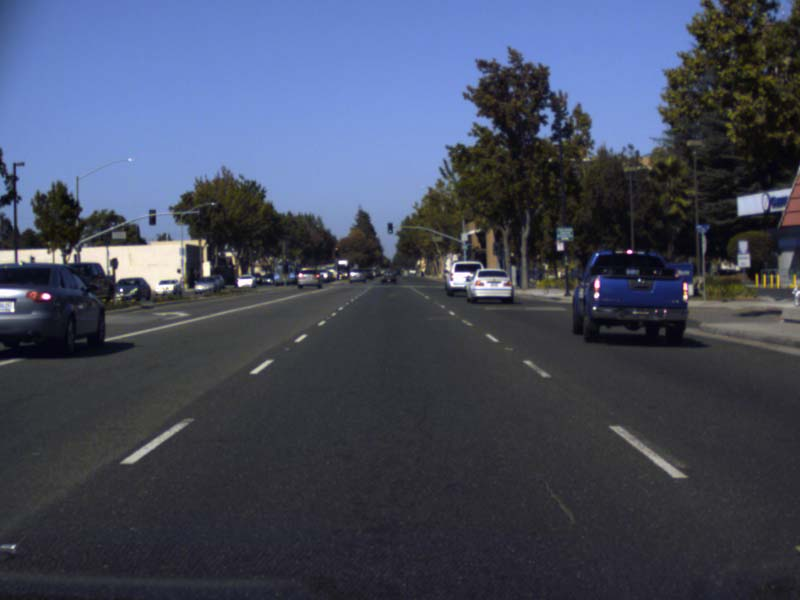Green: (386, 221, 392, 233), (493, 243, 498, 255)
Red: (333, 247, 338, 257)
